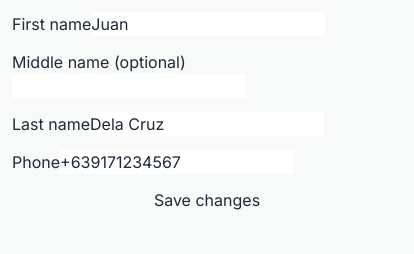
EditProfileForm › shows a validation error for an invalid phone
Replace the text in the field labelled "Phone" with "12345" at (177, 162), box x1=60 y1=150 x2=294 y2=174
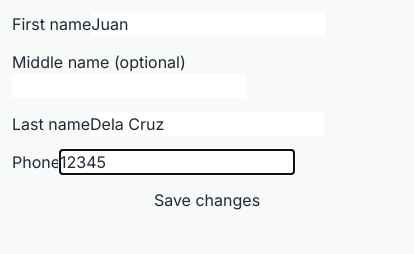
Click the button "Save changes" at (207, 200), box x1=12 y1=188 x2=402 y2=212
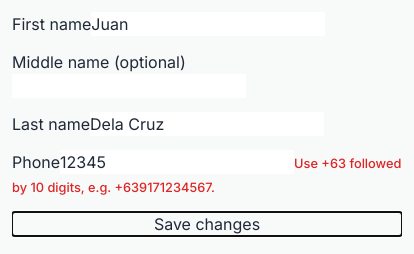
Expected: the text "Use +63 followed by 10 digits, e.g. +639171234567." is shown, x1=12 y1=156 x2=401 y2=195
